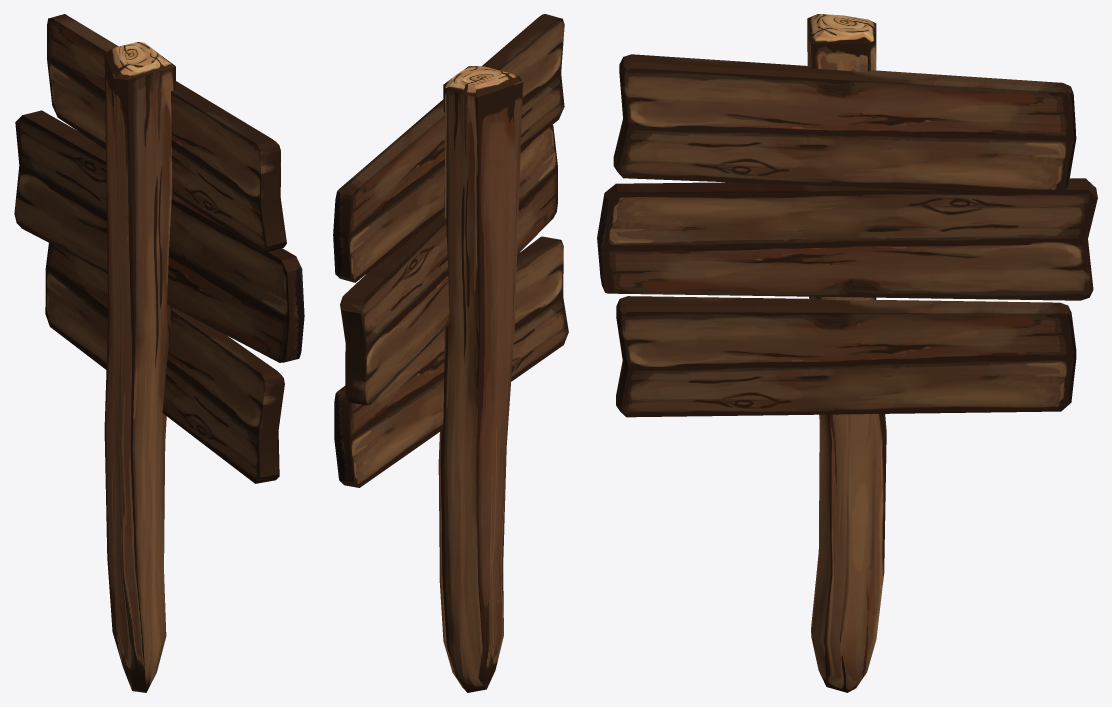
The model's file is Sign.fbx.
The picture shows the model from 3 angles, left to right: view 1: azimuth 30°, elevation 25°; view 2: azimuth 150°, elevation 25°; view 3: azimuth 270°, elevation 25°; orthographic projection. The views are drawn at different scales.
Visible parts, largest first — view 1: CCA_Sign; view 2: CCA_Sign; view 3: CCA_Sign.
Part boxes in pixels (left/top/right/bottom): CCA_Sign: left=14, top=14, right=304, bottom=692; CCA_Sign: left=333, top=14, right=568, bottom=692; CCA_Sign: left=597, top=14, right=1097, bottom=692.
Bounding box in the file's own units: 29.01 × 203 × 139.
1 material, 1 textured.
